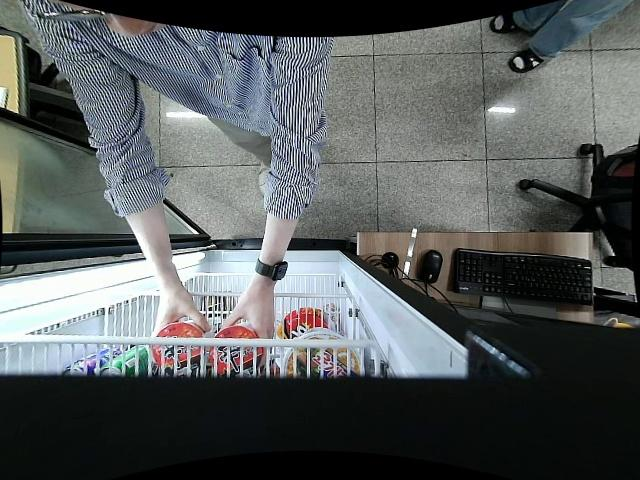00_hand: (221, 296, 276, 364), (152, 288, 212, 334)
02_shinRamen_S: (209, 322, 266, 377), (153, 324, 204, 374)
